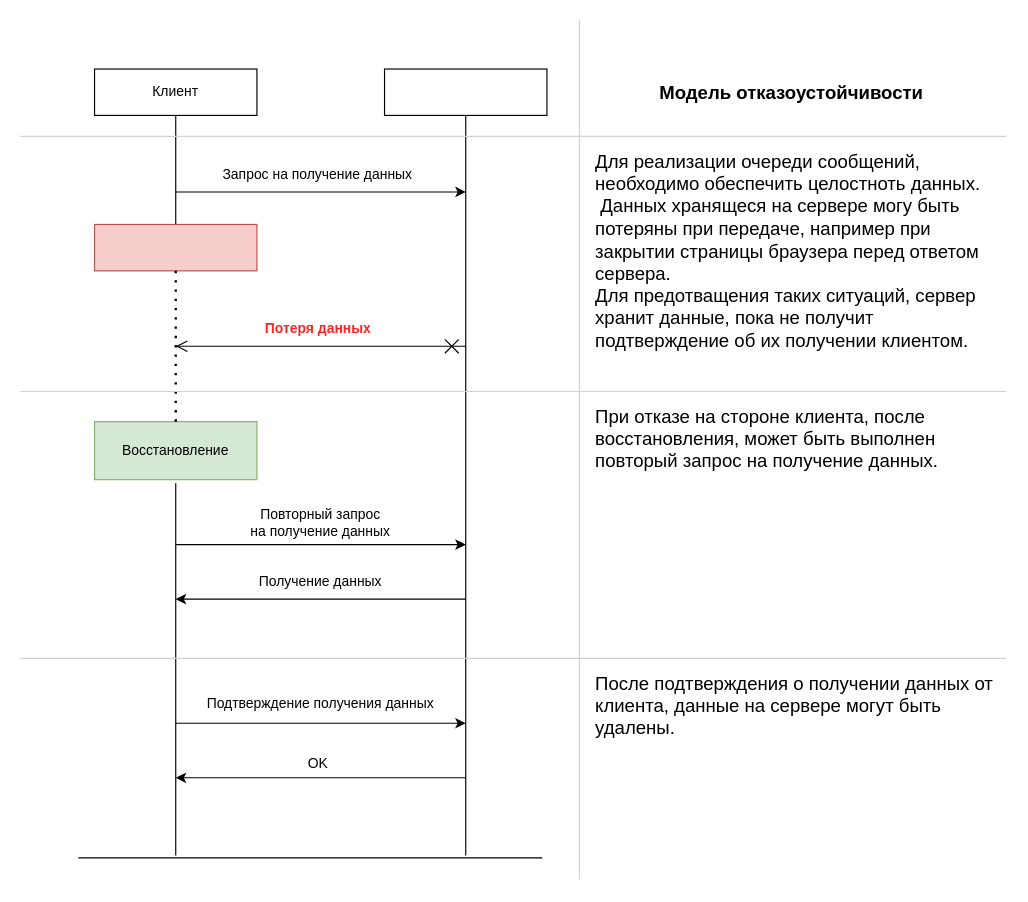
This 1028x902 diagram has some shape labels left out. Each missing label, with the centre of its shape:
"Сбой" belongs at [175,247].
"Сервер" belongs at [465,91].
